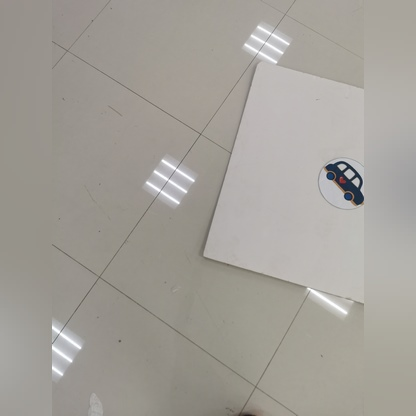car: (318, 152, 365, 218)
